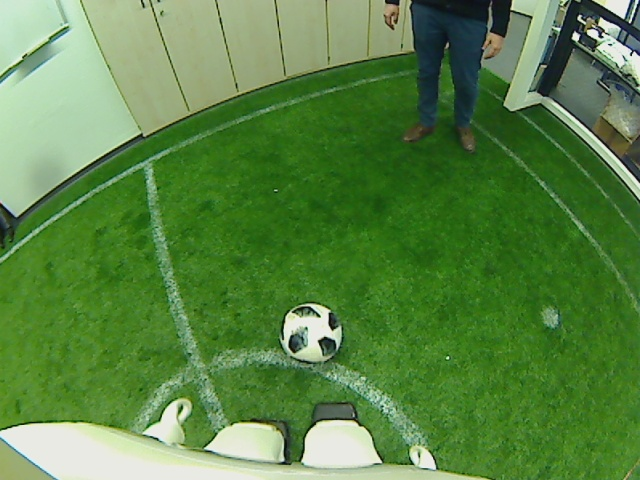ball: (277, 300, 345, 365)
